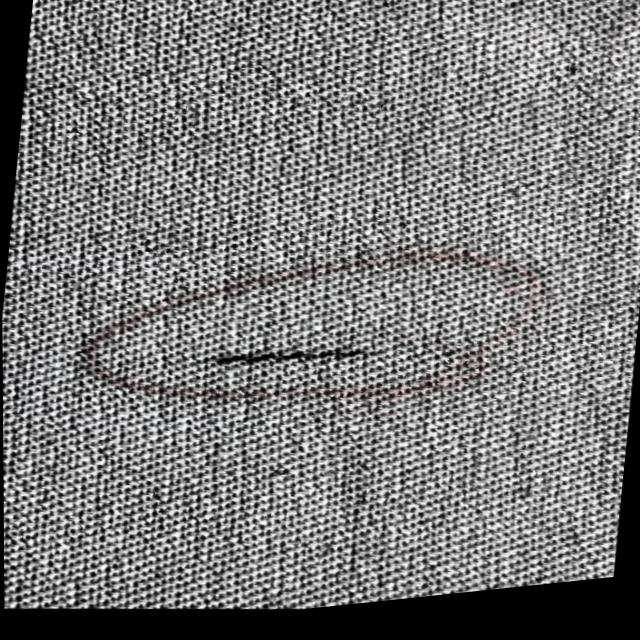Hole: (213, 332, 380, 388)
